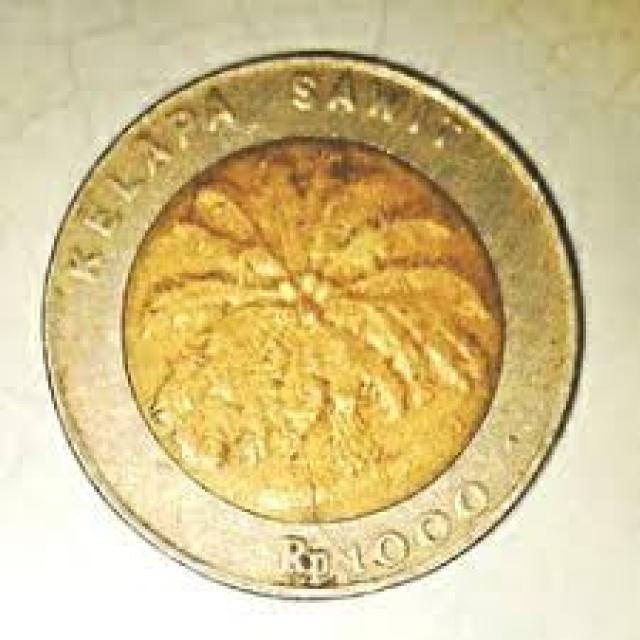1000-sawit: (39, 48, 596, 610)
